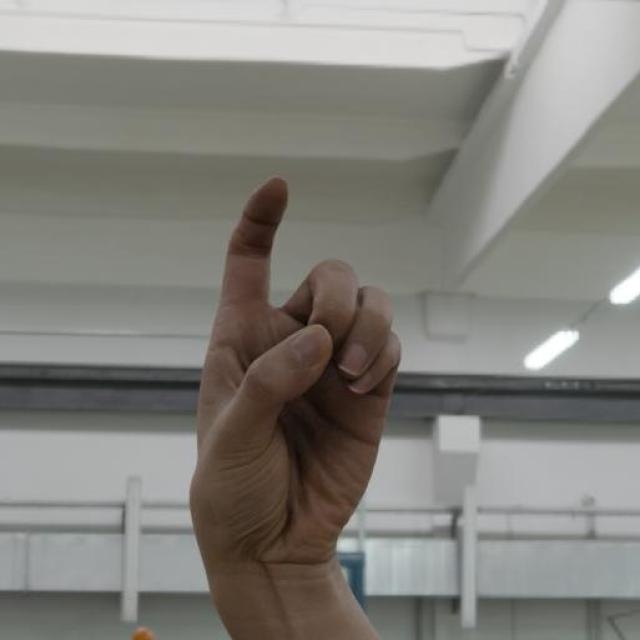X: (156, 174, 430, 630)
